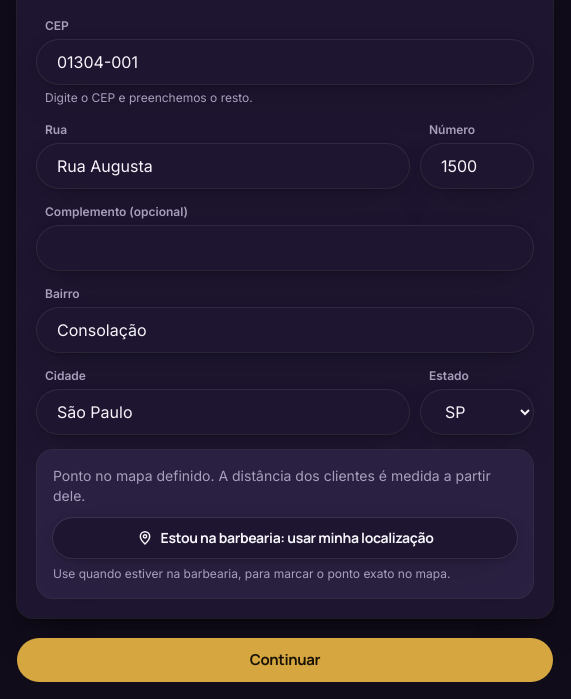
Test: OnboardingView › asks for the WhatsApp before going on, without errors on the untouched form
The width and height of the screenshot is (571, 699).
(page scrolled)
Expected: the text "Informe um telefone com DDD" is not shown
What coordinates should you click on to do the following:
click the button "Continuar"
I would click on:
 (285, 660)
Its box is [17,638,553,682].
(page scrolled)
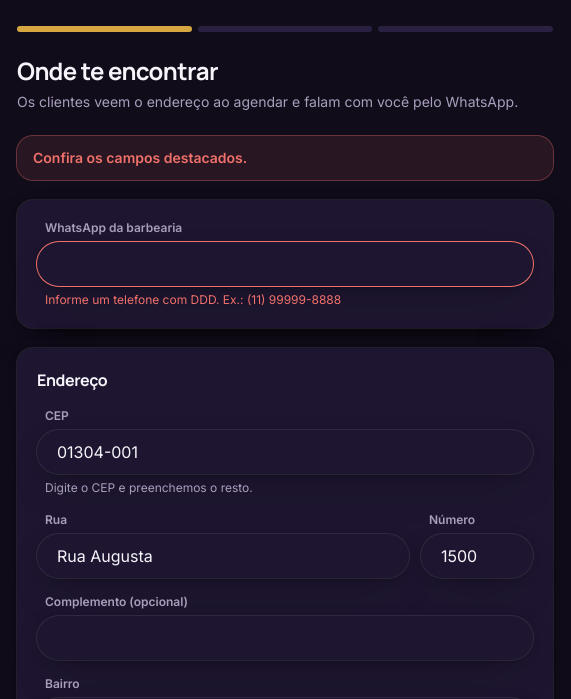
Expected: the text "Confira os campos destacados." is shown, [17,136,553,180]
Expected: the text "Informe um telefone com DDD. Ex.: (11) 99999-8888" is shown, [45,292,341,307]
